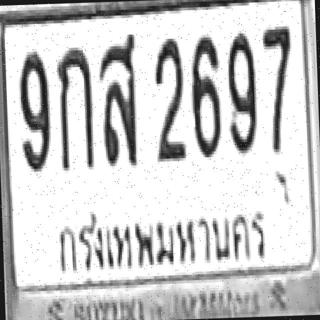A01: (54, 44, 94, 170)
A40: (96, 30, 140, 165)
N02: (151, 37, 186, 160)
N06: (188, 34, 221, 158)
N07: (260, 23, 293, 152)
N09: (16, 47, 51, 170), (225, 29, 258, 152)
P04: (51, 198, 274, 279)
